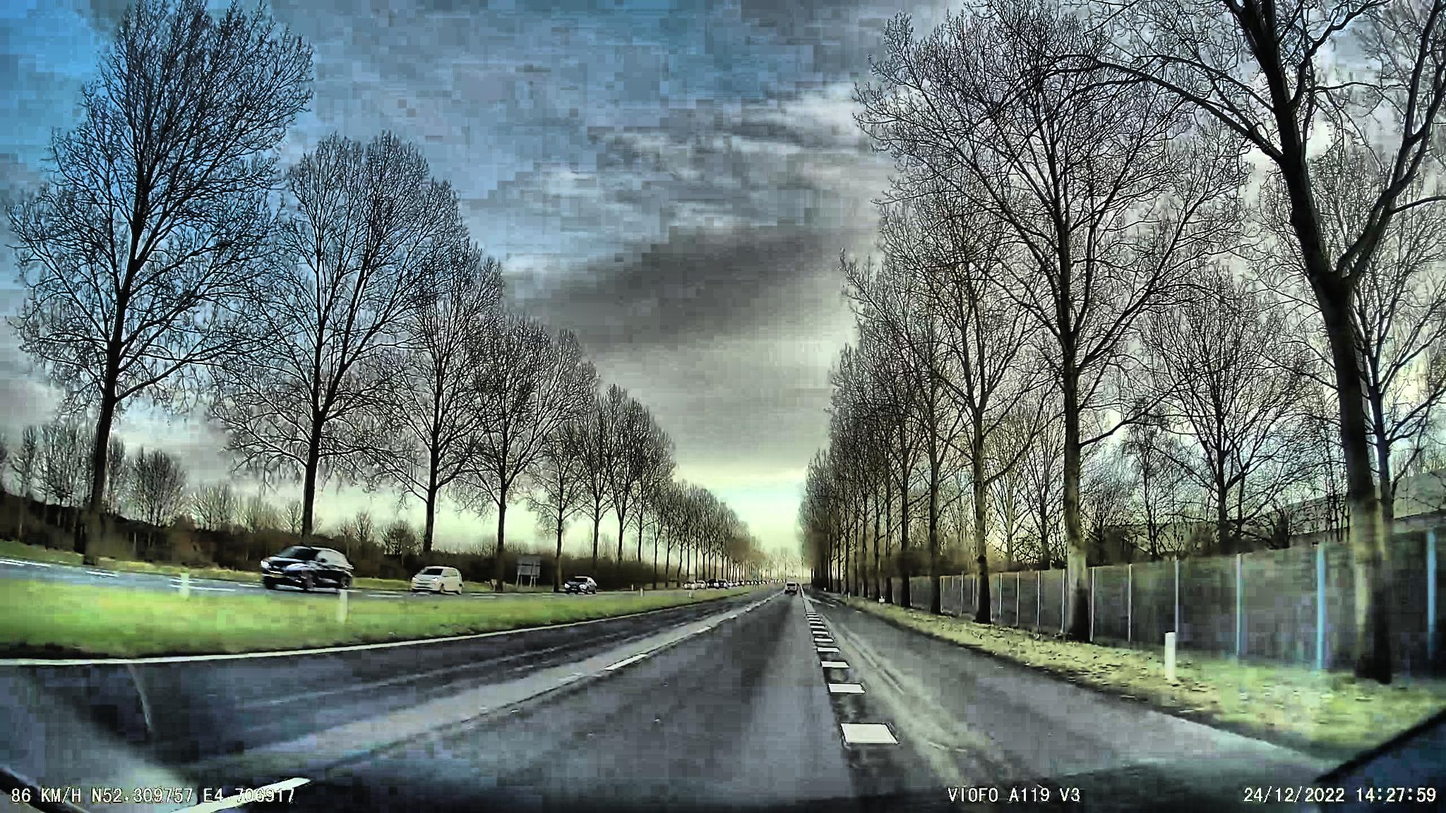Roads: (0, 591, 1332, 813)
